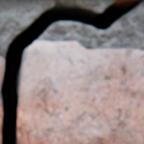broken_brick: (17, 42, 143, 143), (0, 58, 3, 86), (0, 103, 1, 125)
crack: (0, 0, 142, 143)
